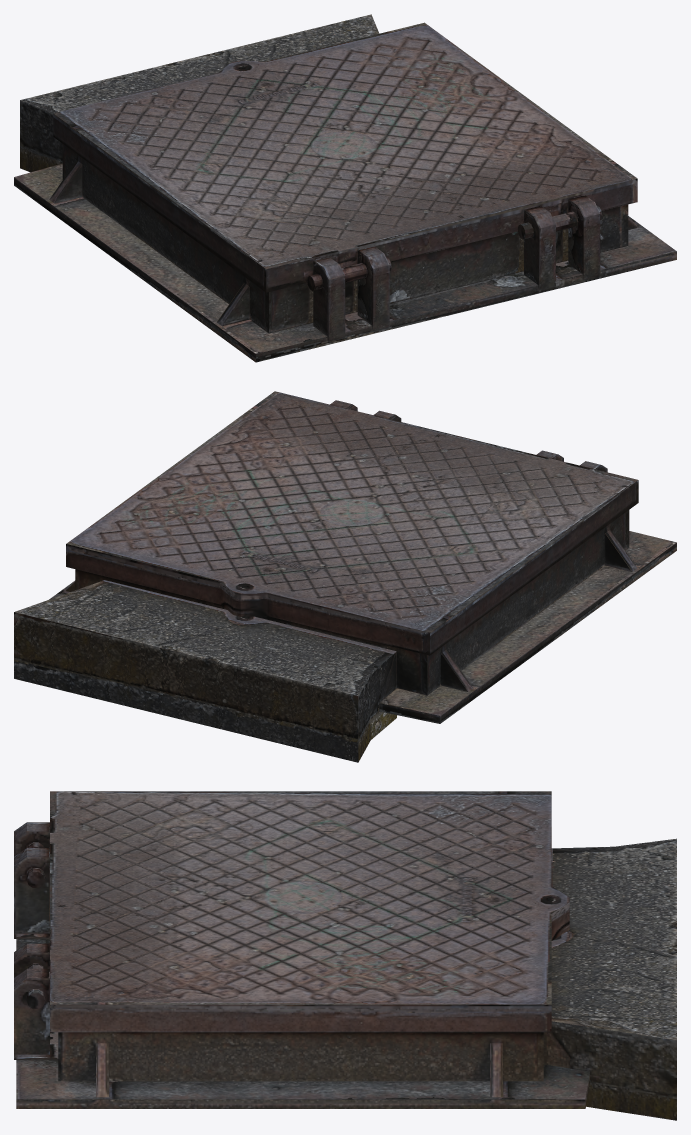
File: hatch.glb
3 renders of one model, top to bottom at view 1: azimuth 30°, elevation 25°; view 2: azimuth 150°, elevation 25°; view 3: azimuth 270°, elevation 25°, orthographic. The views are drawn at different scales.
Parts seen in each view (by area): view 1: HatchDoor, Hatch; view 2: HatchDoor, Hatch; view 3: HatchDoor, Hatch.
Part boxes in pixels (<box>): HatchDoor: <box>53,22,637,292</box>; Hatch: <box>14,14,676,362</box>; HatchDoor: <box>66,391,638,655</box>; Hatch: <box>14,400,676,762</box>; HatchDoor: <box>26,791,569,1032</box>; Hatch: <box>14,822,676,1120</box>.
Size of the model in its own units: 1.53 by 0.3429 by 1.77.
Materials: 1 (1 with a texture image).
